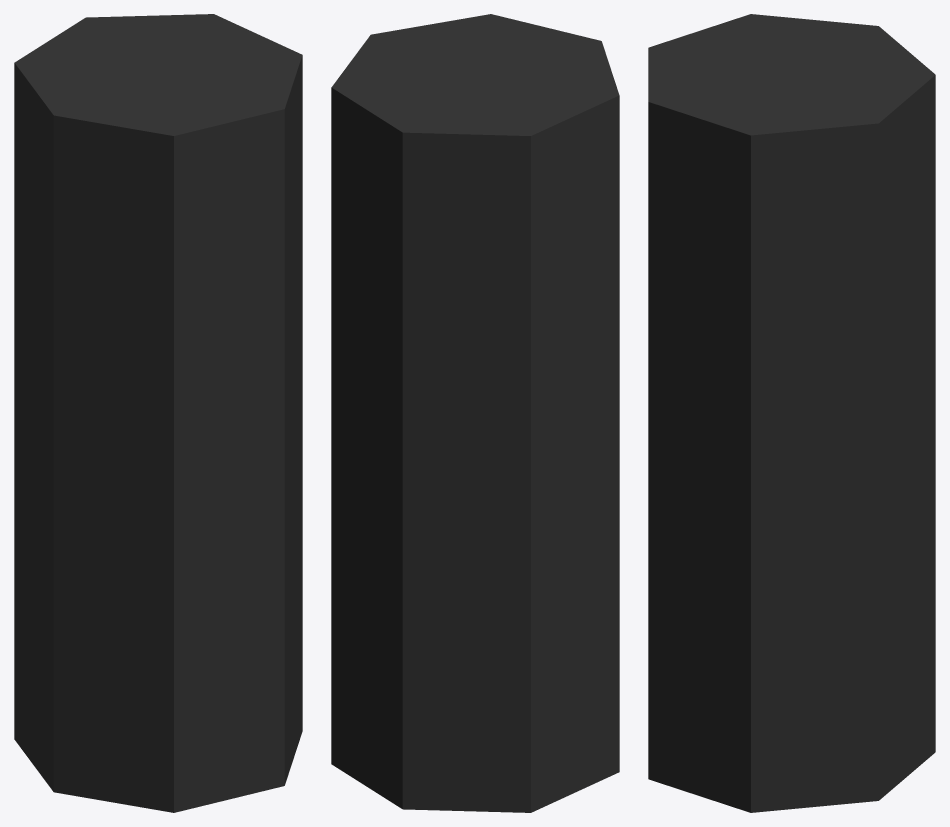
The model's file is RotatorBlockPole.fbx.
3 views of the same model, side by side, from view 1: azimuth 30°, elevation 25°; view 2: azimuth 150°, elevation 25°; view 3: azimuth 270°, elevation 25° (orthographic).
Visible parts, largest first — view 1: Cylinder; view 2: Cylinder; view 3: Cylinder.
Boxes of the visible parts, x1,y1,x2,y2 form: Cylinder: (14, 14, 302, 812); Cylinder: (331, 14, 619, 812); Cylinder: (648, 14, 935, 812).
Bounding box in the file's own units: 100 × 260 × 100.
